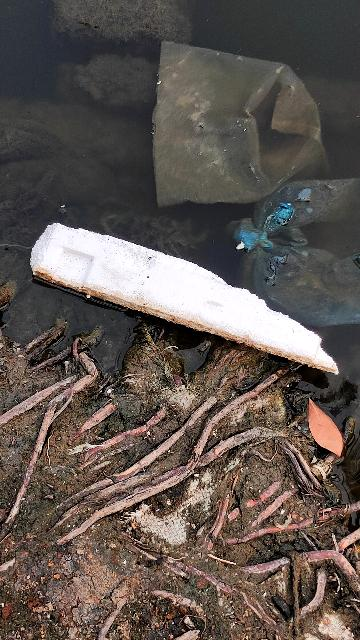cocksheet: (17, 217, 360, 405)
